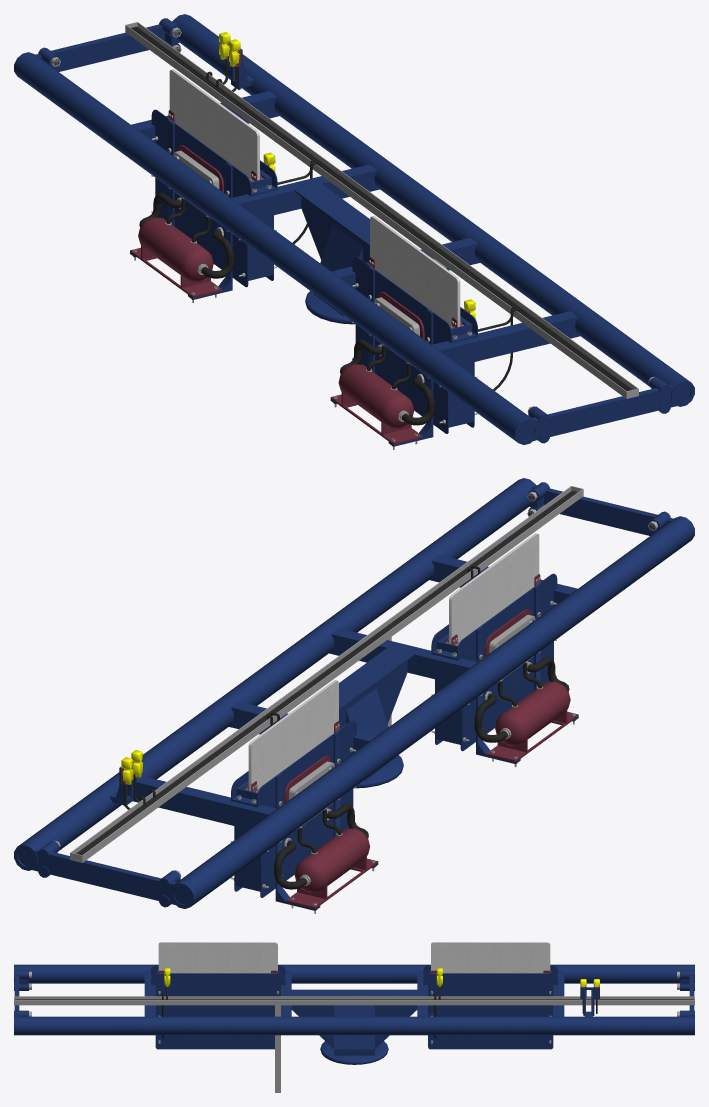
File: Trim Section (Retractable with end sensor).dae
3 renders of one model, top to bottom at view 1: azimuth 30°, elevation 25°; view 2: azimuth 150°, elevation 25°; view 3: azimuth 270°, elevation 25°, orthographic. The views are drawn at different scales.
Parts seen in each view (by area): view 1: Track (×8), Mid_Detail (×4), High_Detail (×5), Fins (×2); view 2: Track (×8), Mid_Detail (×4), High_Detail (×5), Fins (×2); view 3: Track (×6), Mid_Detail (×4), Fins (×2), High_Detail (×2).
Boxes of the visible parts, x1,y1,x2,y2 form: Track (×8): (14, 14, 694, 444); Mid_Detail (×4): (125, 22, 638, 433); High_Detail (×5): (130, 26, 632, 444); Fins (×2): (169, 69, 460, 326); Track (×8): (14, 478, 694, 908); Mid_Detail (×4): (70, 486, 583, 897); High_Detail (×5): (76, 490, 578, 908); Fins (×2): (248, 533, 539, 790); Track (×6): (14, 964, 694, 1064); Mid_Detail (×4): (14, 964, 694, 1092); Fins (×2): (158, 942, 550, 973); High_Detail (×2): (14, 987, 694, 1016).
Size of the model in its own units: 41.69 by 197 by 40.18.
12 materials, 6 textured.
